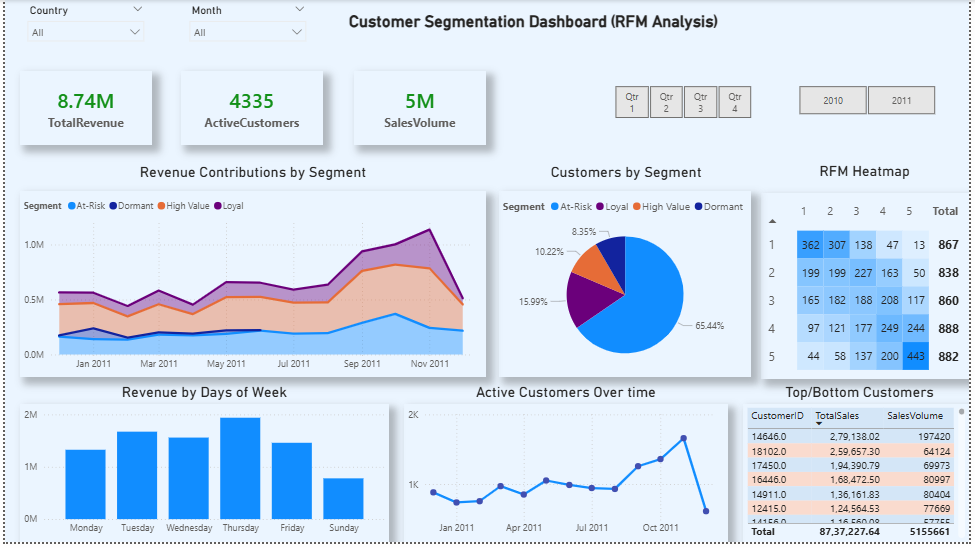

Layout of this report page (visuals, bound fields, positions):
{"tool":"powerbi","page":{"name":"Page 2","canvas":[1280,720],"ordinal":0},"visuals":[{"type":"textbox","box":[442,10.1,518.8,40.6],"z":0},{"type":"cardVisual","fields":{"Data":["Report measures.ActiveCustomers"]},"box":[234.1,93.7,188.8,98],"z":1000},{"type":"cardVisual","fields":{"Data":["Report measures.TotalSales"]},"box":[20.5,93.7,175.6,98],"z":2000},{"type":"cardVisual","fields":{"Data":["Report measures.SalesVolume"]},"box":[463.9,93.7,175.6,98],"z":3000},{"type":"stackedAreaChart","fields":{"Y":["Report measures.TotalSales"],"Series":["rfm_data.Segment"],"Category":["InvoiceDate.InvoiceDate.Variation.Date Hierarchy.Year","InvoiceDate.InvoiceDate.Variation.Date Hierarchy.Quarter","InvoiceDate.InvoiceDate.Variation.Date Hierarchy.Month","InvoiceDate.InvoiceDate.Variation.Date Hierarchy.Day"]},"box":[20.5,253.2,619,247.3],"z":4000},{"type":"textbox","box":[20.5,212.2,619,43.9],"z":5000},{"type":"pieChart","fields":{"Category":["rfm_data.Segment"],"Y":["Report measures.ActiveCustomers"]},"box":[655.6,253.2,335.1,247.3],"z":6000},{"type":"pivotTable","fields":{"Columns":["rfm_data.F_Score"],"Values":["CountNonNull(rfm_data.M_Score)"],"Rows":["rfm_data.R_Score"]},"box":[1003.9,256.1,276.6,247.3],"z":7000},{"type":"textbox","box":[657.1,212.2,335.1,43.9],"z":8000},{"type":"clusteredColumnChart","fields":{"Y":["Report measures.TotalSales"],"Category":["InvoiceDate.DayOfWeek"]},"box":[20.5,537.1,490.2,182.9],"z":9000},{"type":"lineChart","fields":{"Y":["Report measures.ActiveCustomers"],"Category":["InvoiceDate.InvoiceDate.Variation.Date Hierarchy.Year","InvoiceDate.InvoiceDate.Variation.Date Hierarchy.Quarter","InvoiceDate.InvoiceDate.Variation.Date Hierarchy.Month","InvoiceDate.InvoiceDate.Variation.Date Hierarchy.Day"]},"box":[529.8,537.1,430.2,182.9],"z":10000},{"type":"tableEx","fields":{"Values":["df_cleaned.CustomerID","Report measures.TotalSales","Report measures.SalesVolume"]},"box":[980.5,537.1,300,182.9],"z":11000},{"type":"slicer","fields":{"Values":["InvoiceDate.InvoiceDate.Variation.Date Hierarchy.Year"]},"box":[1029,107.2,230.4,50.7],"z":12000},{"type":"slicer","fields":{"Values":["InvoiceDate.InvoiceDate.Variation.Date Hierarchy.Quarter"]},"box":[785.5,107.2,230.4,50.7],"z":13000},{"type":"slicer","fields":{"Values":["df_cleaned.Country"]},"box":[20.3,0,175.4,81.2],"z":14000},{"type":"slicer","fields":{"Values":["InvoiceDate.Month"]},"box":[234.8,0,175.4,81.2],"z":15000},{"type":"textbox","box":[1004.3,211.6,275.4,44.9],"z":16000},{"type":"textbox","box":[20.3,504.3,489.9,43.5],"z":17000},{"type":"textbox","box":[530.4,504.3,430.4,43.5],"z":18000},{"type":"textbox","box":[991.3,504.3,288.4,43.5],"z":19000}]}

Visuals, with their boxes in screenshot pixels (x1, y1, x2, y2), scaled from the page's 1280x720 canvas onto the 975x548 screenshot:
textbox: {"x1": 337, "y1": 8, "x2": 732, "y2": 39}
cardVisual - Report measures.ActiveCustomers: {"x1": 178, "y1": 71, "x2": 322, "y2": 146}
cardVisual - Report measures.TotalSales: {"x1": 16, "y1": 71, "x2": 149, "y2": 146}
cardVisual - Report measures.SalesVolume: {"x1": 353, "y1": 71, "x2": 487, "y2": 146}
stackedAreaChart - Report measures.TotalSales x rfm_data.Segment: {"x1": 16, "y1": 193, "x2": 487, "y2": 381}
textbox: {"x1": 16, "y1": 162, "x2": 487, "y2": 195}
pieChart - rfm_data.Segment x Report measures.ActiveCustomers: {"x1": 499, "y1": 193, "x2": 755, "y2": 381}
pivotTable - rfm_data.F_Score x CountNonNull(rfm_data.M_Score): {"x1": 765, "y1": 195, "x2": 974, "y2": 383}
textbox: {"x1": 501, "y1": 162, "x2": 756, "y2": 195}
clusteredColumnChart - Report measures.TotalSales x InvoiceDate.DayOfWeek: {"x1": 16, "y1": 409, "x2": 389, "y2": 547}
lineChart - Report measures.ActiveCustomers x InvoiceDate.InvoiceDate.Variation.Date Hierarchy.Year: {"x1": 404, "y1": 409, "x2": 731, "y2": 547}
tableEx - df_cleaned.CustomerID x Report measures.TotalSales: {"x1": 747, "y1": 409, "x2": 974, "y2": 547}
slicer - InvoiceDate.InvoiceDate.Variation.Date Hierarchy.Year: {"x1": 784, "y1": 82, "x2": 959, "y2": 120}
slicer - InvoiceDate.InvoiceDate.Variation.Date Hierarchy.Quarter: {"x1": 598, "y1": 82, "x2": 774, "y2": 120}
slicer - df_cleaned.Country: {"x1": 15, "y1": 0, "x2": 149, "y2": 62}
slicer - InvoiceDate.Month: {"x1": 179, "y1": 0, "x2": 312, "y2": 62}
textbox: {"x1": 765, "y1": 161, "x2": 974, "y2": 195}
textbox: {"x1": 15, "y1": 384, "x2": 389, "y2": 417}
textbox: {"x1": 404, "y1": 384, "x2": 732, "y2": 417}
textbox: {"x1": 755, "y1": 384, "x2": 974, "y2": 417}
